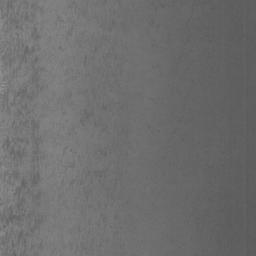Silk spot: (0, 0, 48, 256), (52, 104, 128, 256), (52, 0, 122, 91), (58, 92, 72, 115), (95, 144, 113, 156)
